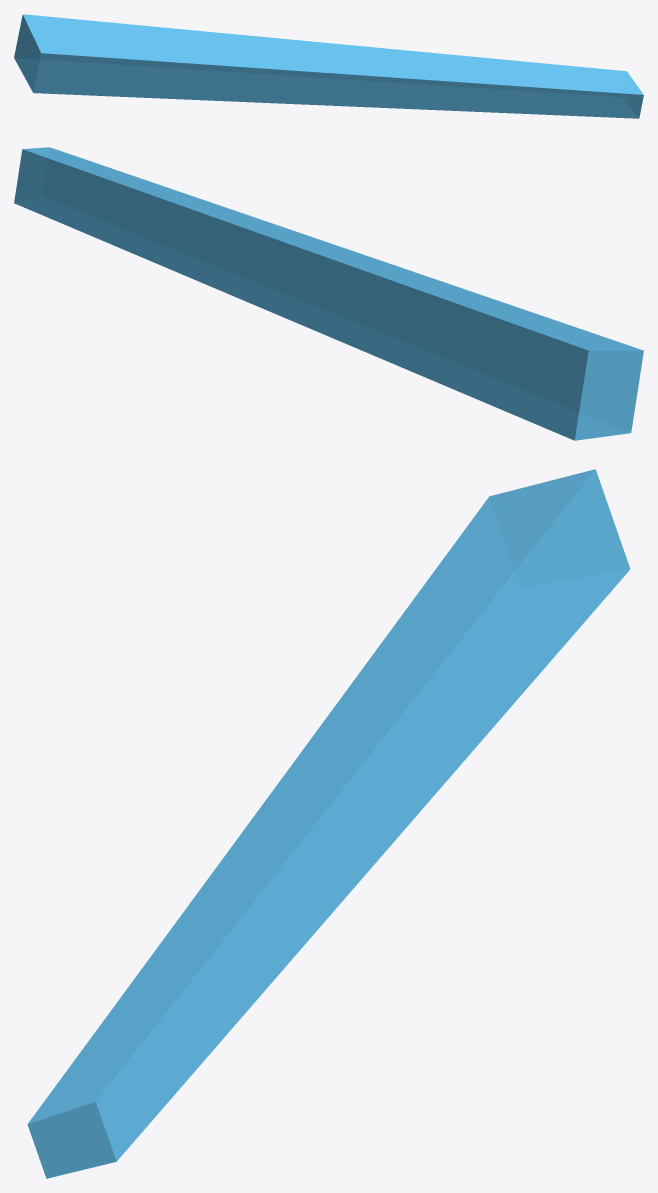
Rendered from Event_421556567_HErechit_2.fbx.
3 views of the same model, one above another, from view 1: azimuth 30°, elevation 25°; view 2: azimuth 150°, elevation 25°; view 3: azimuth 270°, elevation 25° (orthographic). The views are drawn at different scales.
Parts seen in each view (by area): view 1: Model; view 2: Model; view 3: Model.
Part boxes in pixels (<box>): Model: <box>14,14,643,118</box>; Model: <box>14,147,643,440</box>; Model: <box>27,469,630,1178</box>.
Size of the model in its own units: 6.76 by 1.6 by 3.62.
